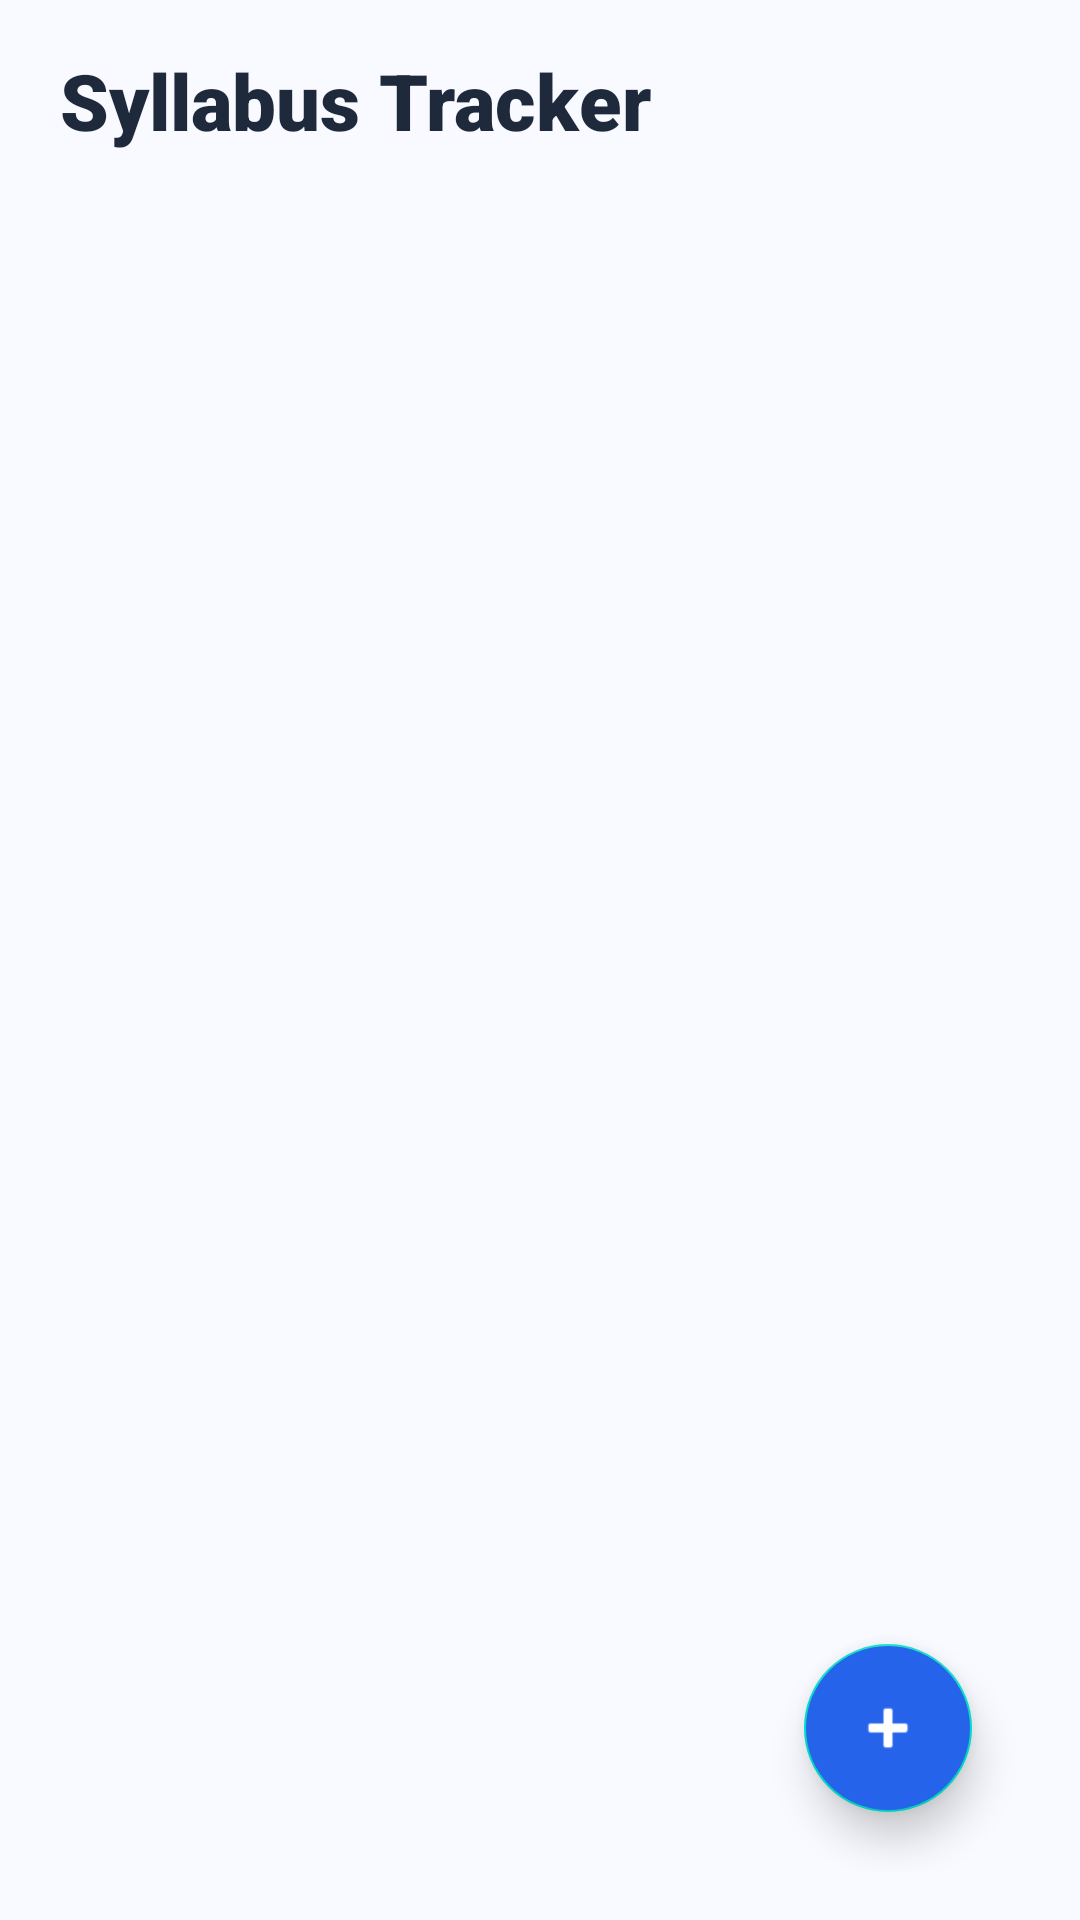

Screen size 1080px x 1920px. Icon name, then its box in pixels as {"x1": x1, "y1": y1, "x2": x2, "y2": y2}:
add: {"x1": 804, "y1": 1644, "x2": 972, "y2": 1812}
